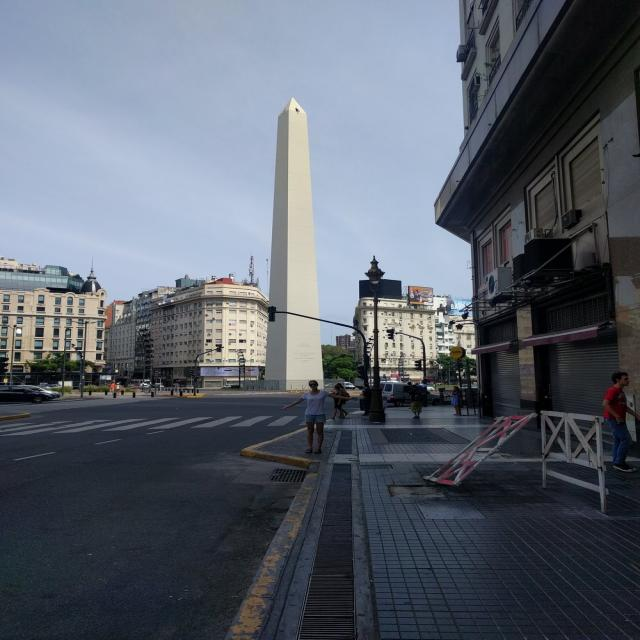body: (278, 378, 360, 454), (601, 369, 639, 473), (333, 377, 477, 388), (329, 385, 348, 420), (408, 384, 424, 419), (409, 285, 435, 305), (335, 382, 349, 418), (360, 382, 374, 417), (449, 386, 464, 416), (378, 393, 391, 416), (107, 381, 116, 396), (405, 382, 413, 398), (438, 387, 446, 397), (115, 382, 121, 393), (210, 383, 218, 390)
